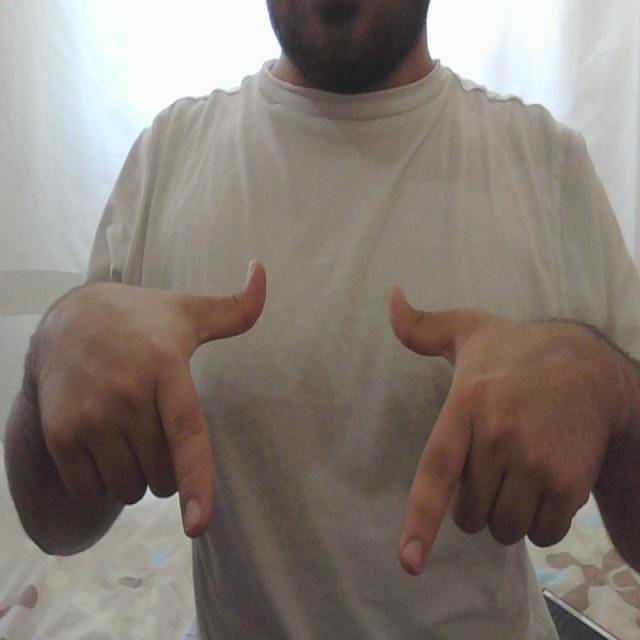Nerede: (159, 261, 486, 582)
